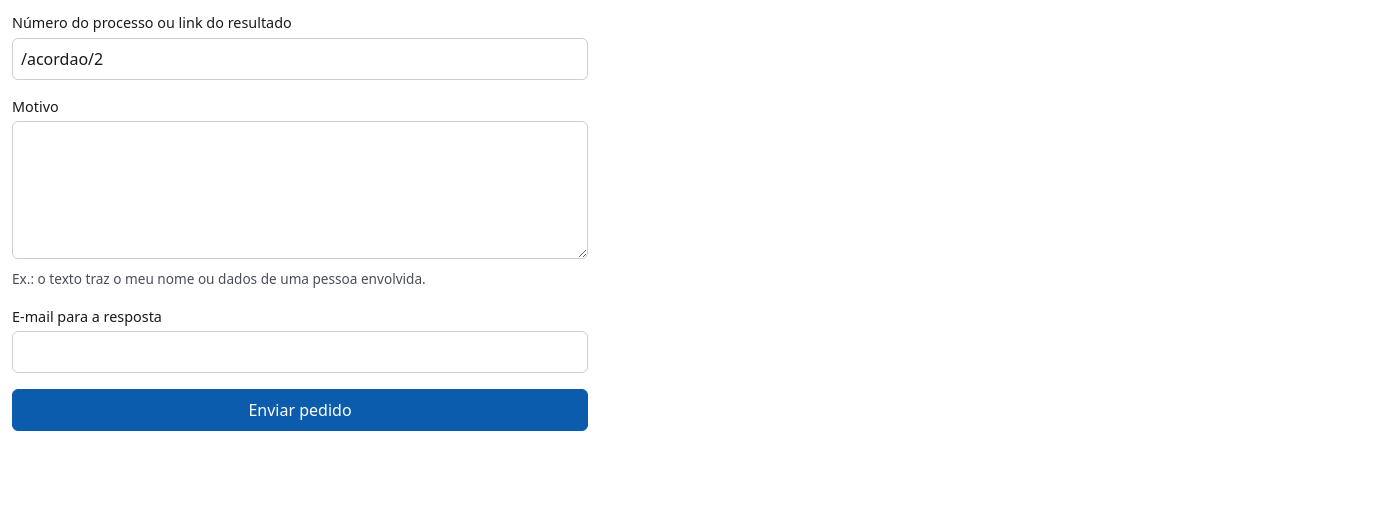
it: Remoção (F5-11) › mostra os erros ligados aos campos e, enviado, o protocolo
This screenshot has width=1378, height=520.
Expected: the field labelled "Número do processo ou link do resultado" holds "/acordao/2", [12, 38, 588, 80]
Click the button "Enviar pedido" at (300, 410), box [12, 389, 588, 431]
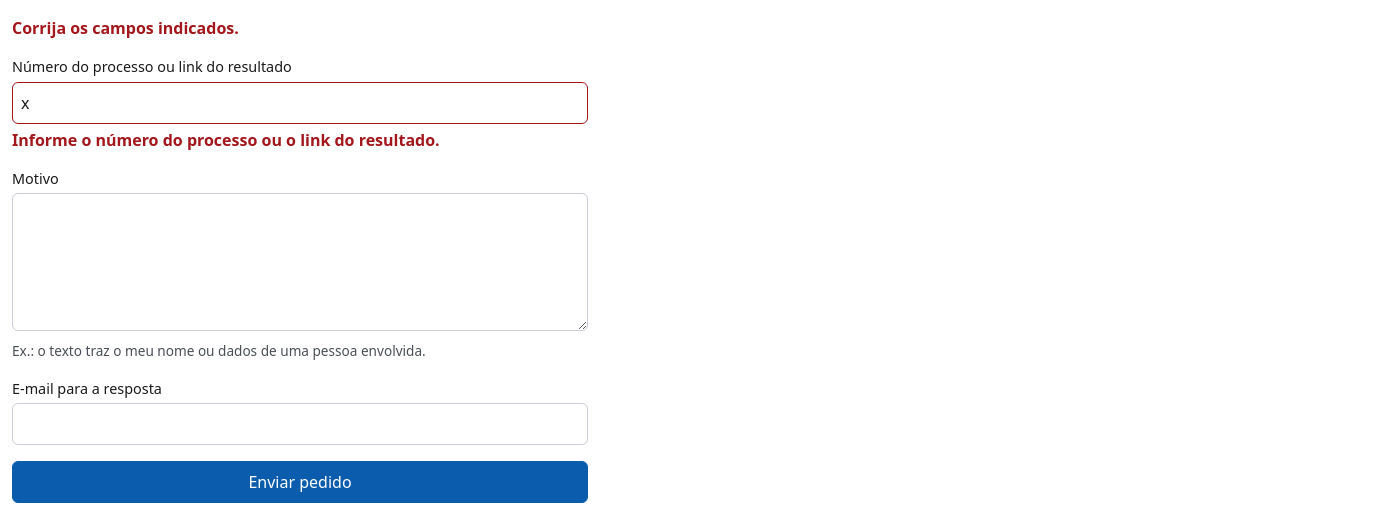
Result: the text "Corrija os campos indicados." is shown at [12, 17, 239, 39]
Click the button "Enviar pedido" at (300, 482), box [12, 461, 588, 503]
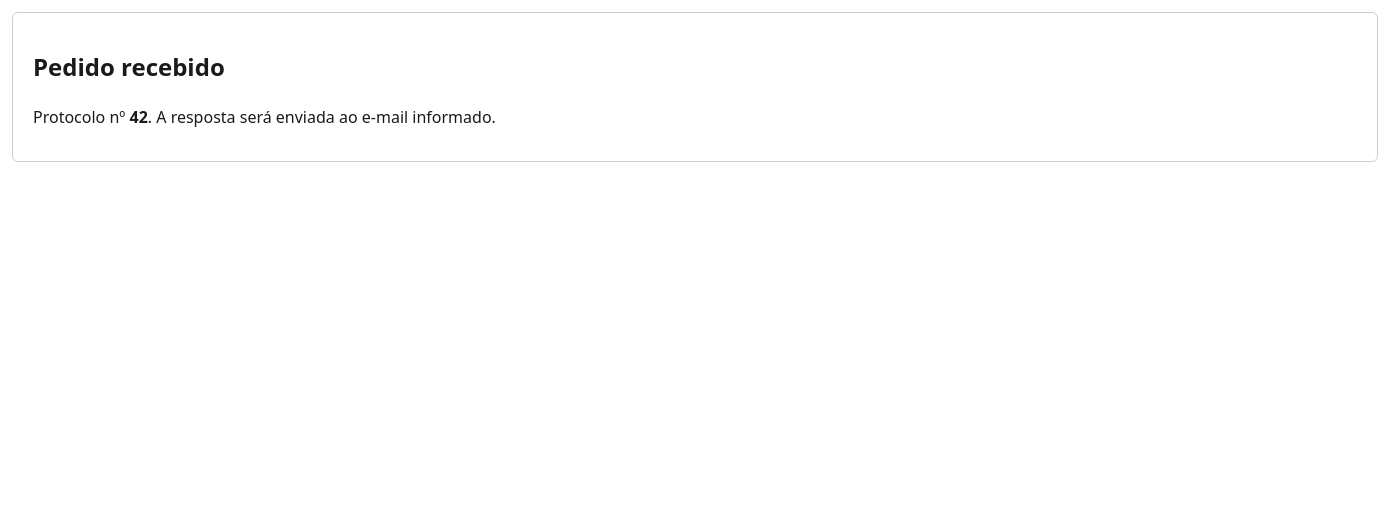
Result: the message shows "Protocolo nº 42" at [12, 12, 1377, 162]
